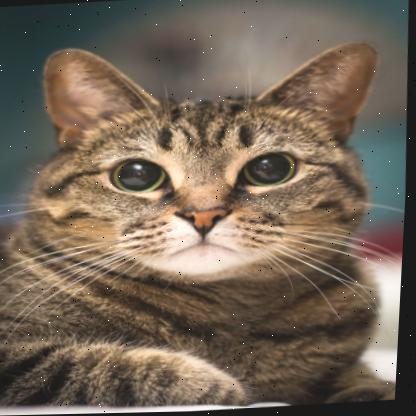cat: (0, 32, 392, 409)
